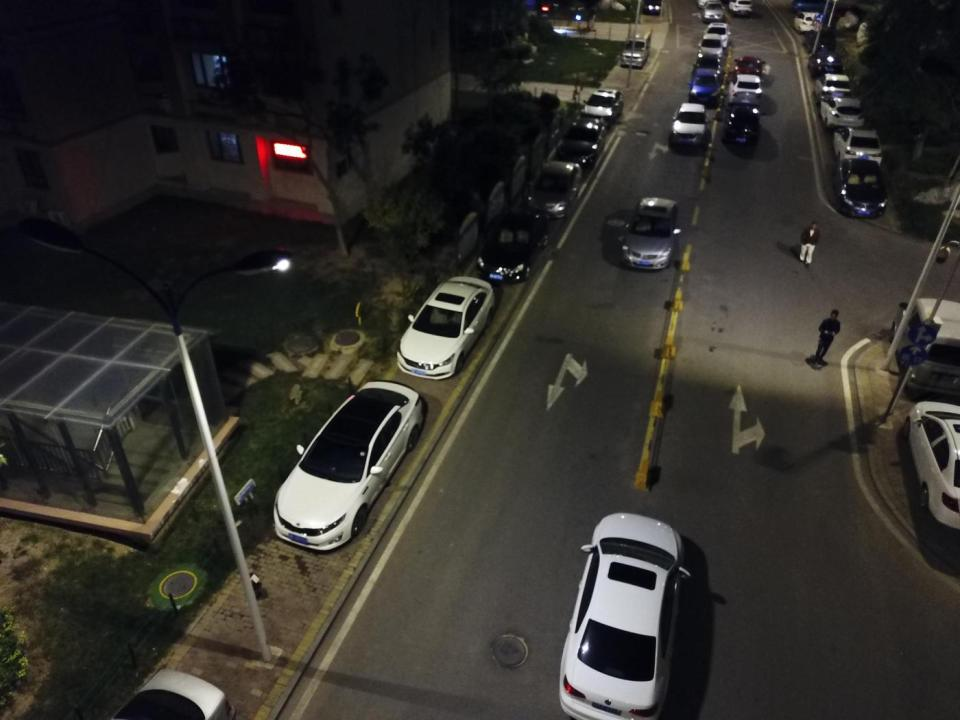car: (558, 509, 696, 720), (271, 379, 427, 553), (392, 272, 499, 381), (903, 399, 960, 532), (474, 207, 552, 280), (620, 198, 681, 272), (834, 158, 889, 219), (530, 162, 586, 218), (554, 116, 612, 170), (831, 121, 883, 170), (718, 100, 760, 150), (669, 101, 708, 146), (581, 86, 623, 126), (812, 69, 855, 108), (819, 93, 865, 129), (724, 72, 764, 110), (686, 66, 722, 106), (806, 48, 843, 82), (731, 54, 768, 82), (804, 24, 837, 55), (691, 50, 722, 75), (704, 20, 732, 47), (794, 10, 824, 34), (698, 32, 724, 58), (702, 0, 726, 22), (729, 0, 755, 15)
van: (895, 296, 960, 401), (620, 30, 650, 68)
